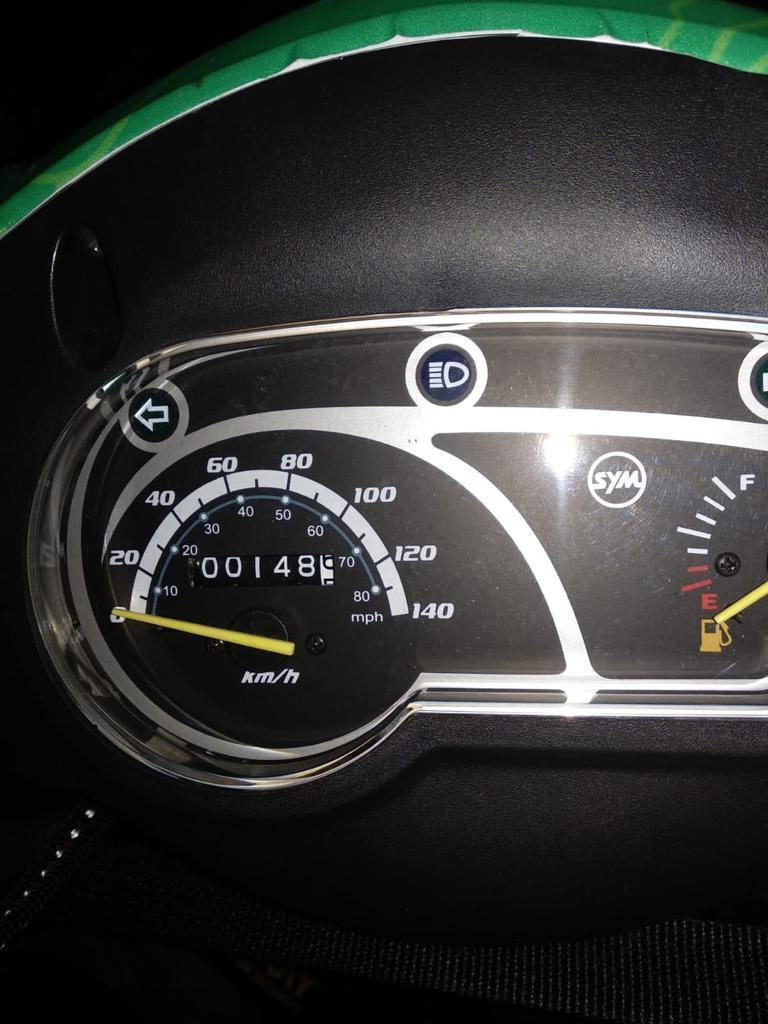0: (201, 556, 218, 579), (224, 556, 241, 577)
1: (254, 556, 260, 579)
4: (273, 555, 290, 577)
6: (322, 550, 336, 569)
8: (297, 554, 315, 577)
odometer: (185, 551, 335, 590)
